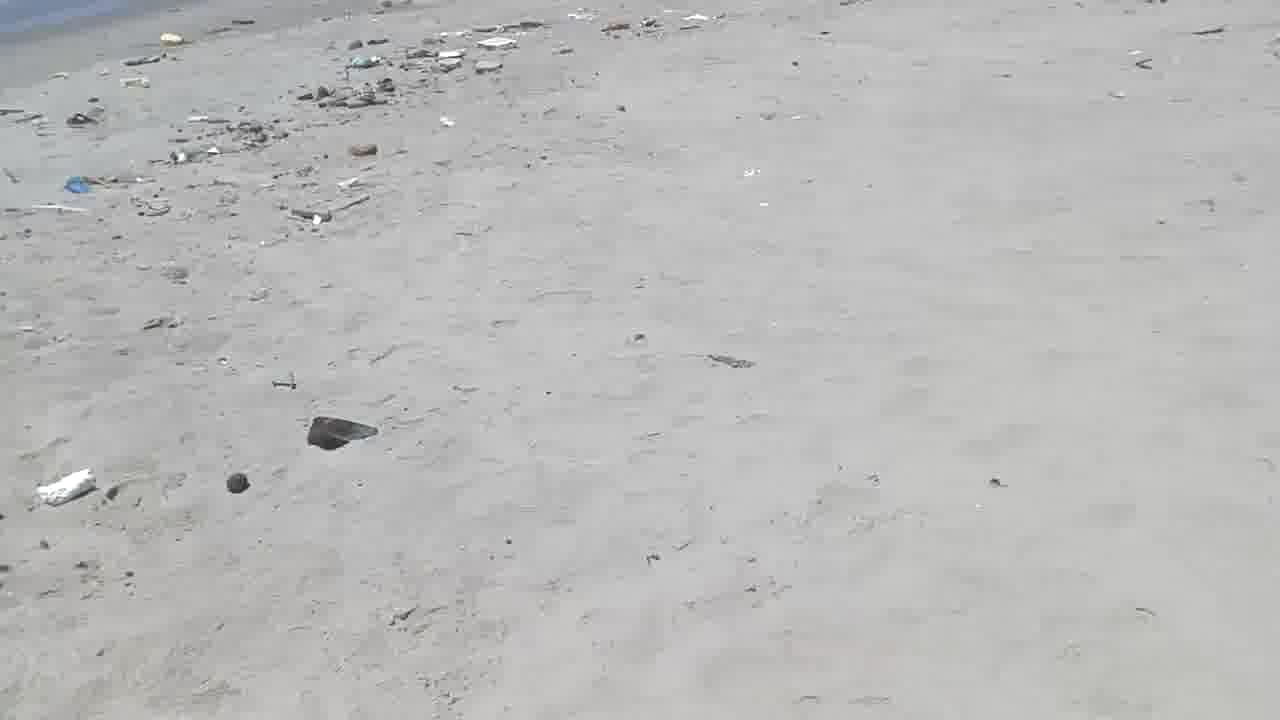large collection of objects: (30, 461, 111, 516)
obj: (282, 46, 427, 118), (298, 415, 384, 452), (268, 199, 344, 227), (436, 51, 493, 68), (56, 174, 95, 198), (338, 137, 384, 157), (225, 472, 252, 495), (477, 37, 517, 50)
sand/background: (1, 0, 393, 111)
